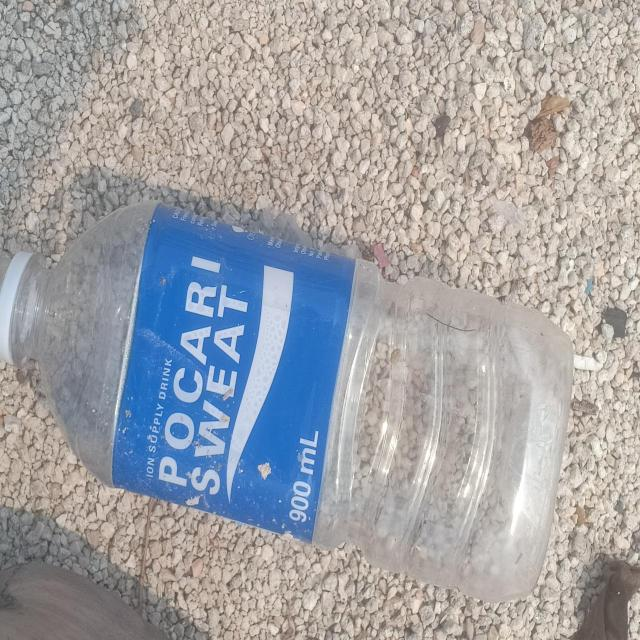plastic_waste: (1, 199, 577, 603)
